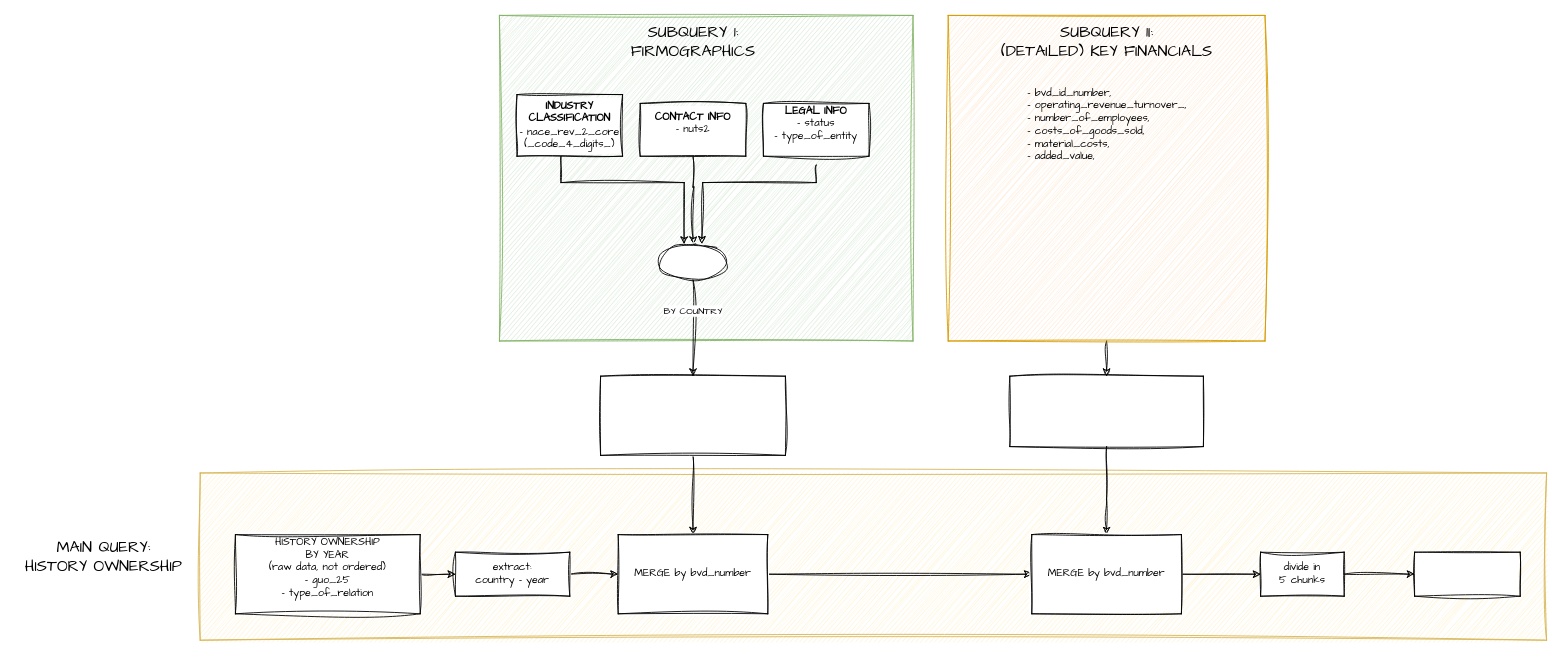
Image size: 1562x656. Some labels were removed from this diagram. Here are the shapes that lost their labels. From the top down, the centre of each, then its label:
At [692,261]: "merge".
At [692,415]: "FIRMOGRAFHICS eg: firmographics_IT".
At [1106,411]: "KEY_FINANCIALS eg: key_financials_IT".
At [1467,573]: "RETURN DATA eg: italy_2020_chunk1".
